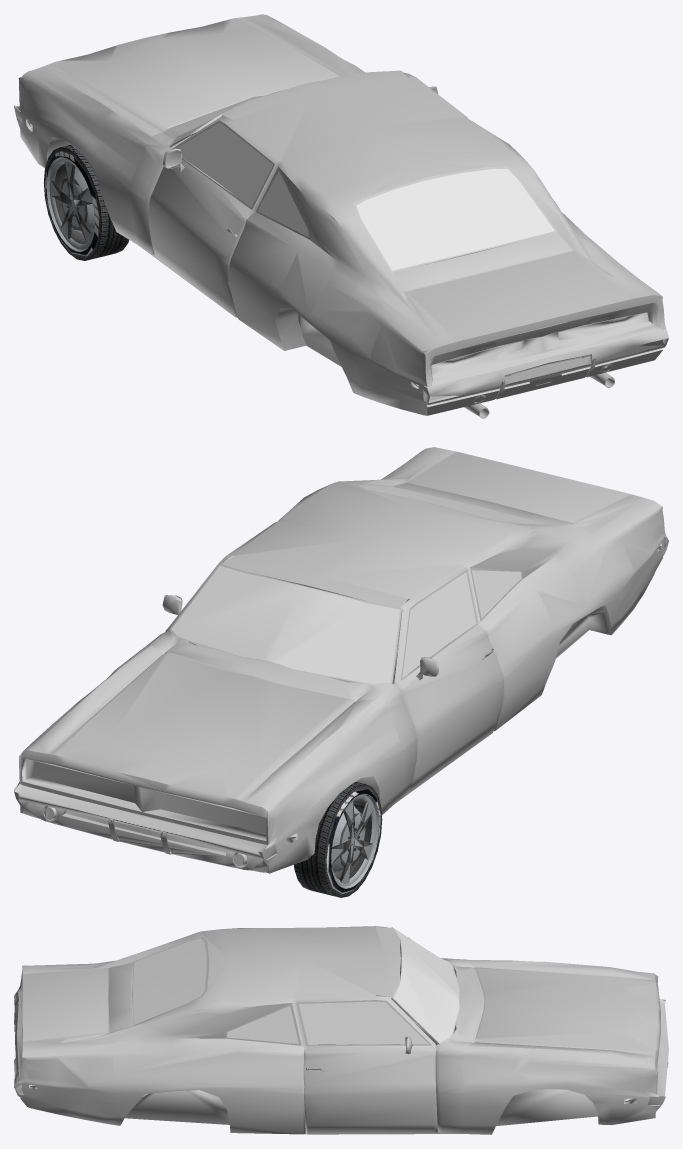
Rendered from 1969 classic.fbx.
3 renders of one model, top to bottom at view 1: azimuth 30°, elevation 25°; view 2: azimuth 150°, elevation 25°; view 3: azimuth 270°, elevation 25°, orthographic. The views are drawn at different scales.
Parts seen in each view (by area): view 1: 1969 classic body, 1969 classic glass, 1969 classic interior, 1969 classic tire; view 2: 1969 classic body, 1969 classic glass, 1969 classic interior, 1969 classic tire; view 3: 1969 classic body, 1969 classic glass, 1969 classic interior.
Boxes of the visible parts, x1,y1,x2,y2 form: 1969 classic body: [16, 14, 666, 415]; 1969 classic glass: [172, 76, 554, 270]; 1969 classic interior: [14, 70, 668, 418]; 1969 classic tire: [43, 145, 128, 260]; 1969 classic body: [16, 447, 665, 873]; 1969 classic glass: [171, 485, 547, 683]; 1969 classic interior: [14, 484, 668, 867]; 1969 classic tire: [294, 782, 382, 897]; 1969 classic body: [15, 926, 668, 1134]; 1969 classic glass: [133, 929, 459, 1044]; 1969 classic interior: [14, 927, 668, 1130].
Size of the model in its own units: 257 by 181 by 646.
